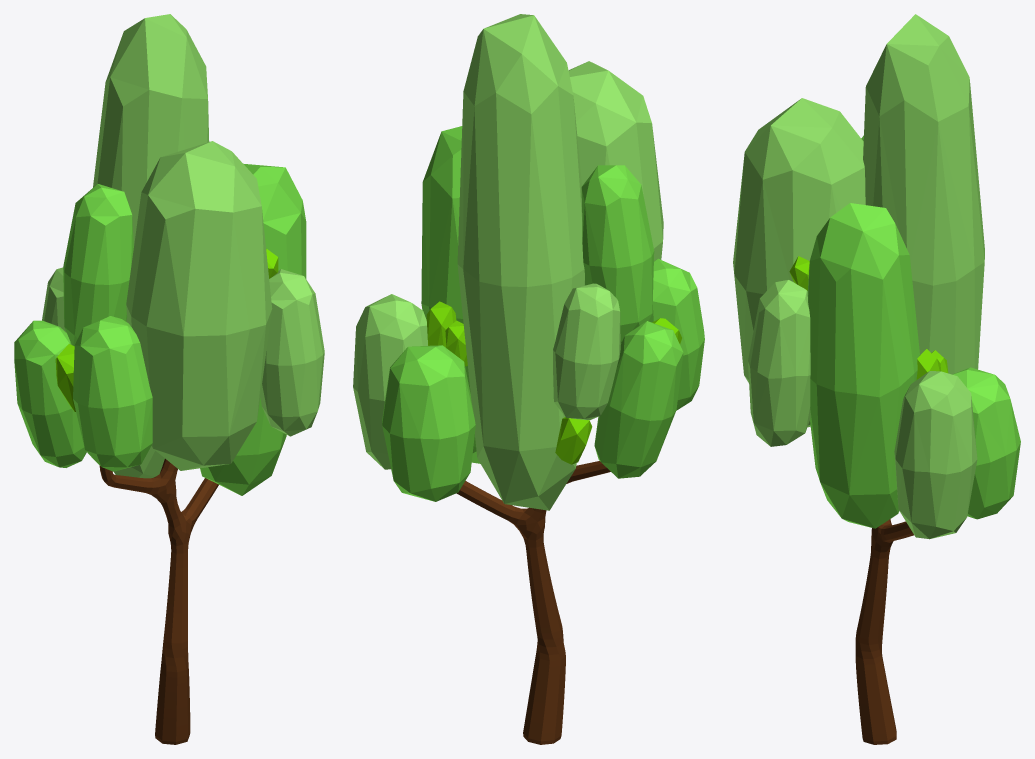
File: tree2.fbx
The picture shows the model from 3 angles, left to right: view 1: azimuth 30°, elevation 25°; view 2: azimuth 150°, elevation 25°; view 3: azimuth 270°, elevation 25°; orthographic projection. The views are drawn at different scales.
Visible parts, largest first — view 1: Sphere.054; view 2: Sphere.054; view 3: Sphere.054.
Part boxes in pixels (left/top/right/bottom): Sphere.054: left=14, top=14, right=324, bottom=744; Sphere.054: left=353, top=14, right=704, bottom=744; Sphere.054: left=733, top=14, right=1020, bottom=744.
Size of the model in its own units: 1003 by 2334 by 845.
